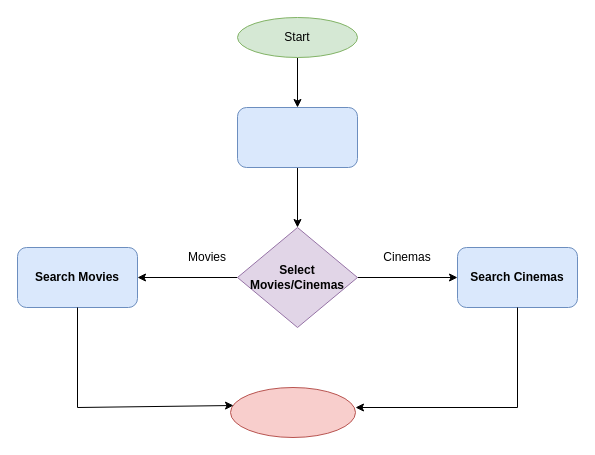
Some shapes in this 595 by 455 pixel diagram are drawn without their labels. Here are the shapes that lost their labels. From the top down, the centre of each, then its label:
point 297,137: Search Page
point 293,412: Exit
